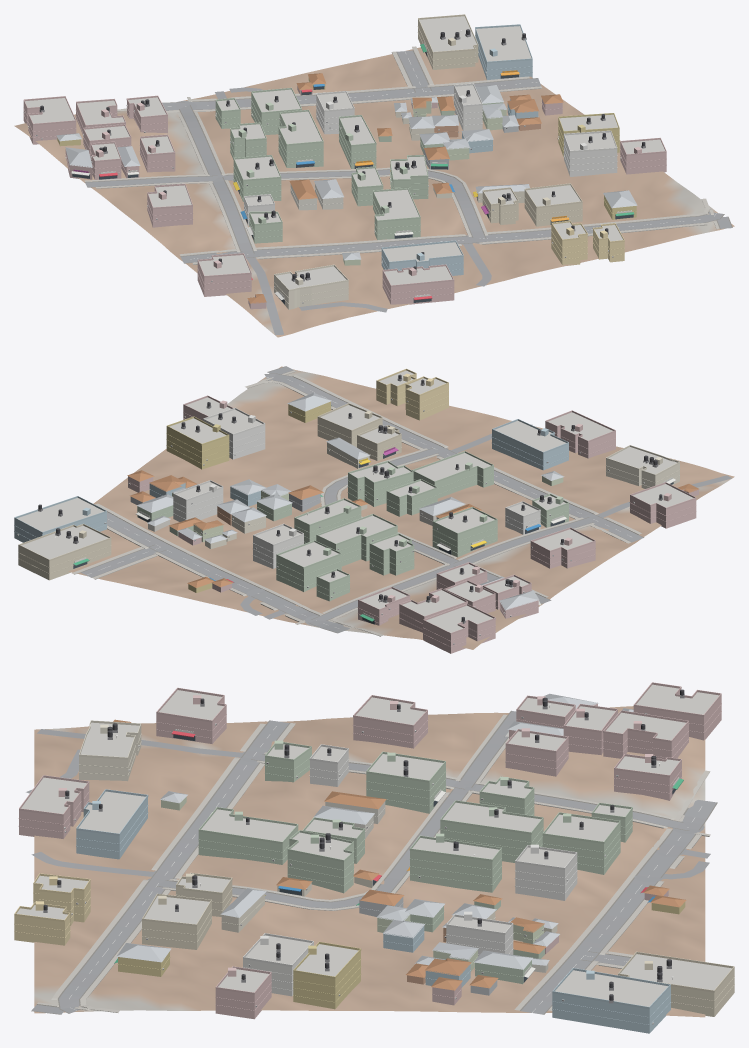
3 views of the same model, one above another, from view 1: azimuth 30°, elevation 25°; view 2: azimuth 150°, elevation 25°; view 3: azimuth 270°, elevation 25° (orthographic). The views are drawn at different scales.
Visible parts, largest first — view 1: Buildings-col, Terrain-col, Details, Roads-col, Sidewalks-col; view 2: Buildings-col, Terrain-col, Details, Roads-col, Sidewalks-col; view 3: Buildings-col, Terrain-col, Details, Roads-col, Sidewalks-col.
Boxes of the visible parts, x1=… form: Buildings-col: x1=23, y1=16, x2=666, y2=309; Terrain-col: x1=14, y1=47, x2=734, y2=337; Details: x1=23, y1=14, x2=666, y2=304; Roads-col: x1=85, y1=50, x2=732, y2=335; Sidewalks-col: x1=84, y1=46, x2=719, y2=264; Buildings-col: x1=14, y1=370, x2=699, y2=653; Terrain-col: x1=68, y1=366, x2=734, y2=649; Details: x1=14, y1=368, x2=696, y2=647; Roads-col: x1=80, y1=366, x2=731, y2=633; Sidewalks-col: x1=71, y1=370, x2=641, y2=636; Buildings-col: x1=14, y1=684, x2=734, y2=1033; Terrain-col: x1=34, y1=706, x2=705, y2=1017; Details: x1=14, y1=682, x2=734, y2=1025; Roads-col: x1=26, y1=710, x2=717, y2=1014; Sidewalks-col: x1=37, y1=714, x2=710, y2=1012.
Bounding box in the file's own units: 281 × 23.95 × 275.
